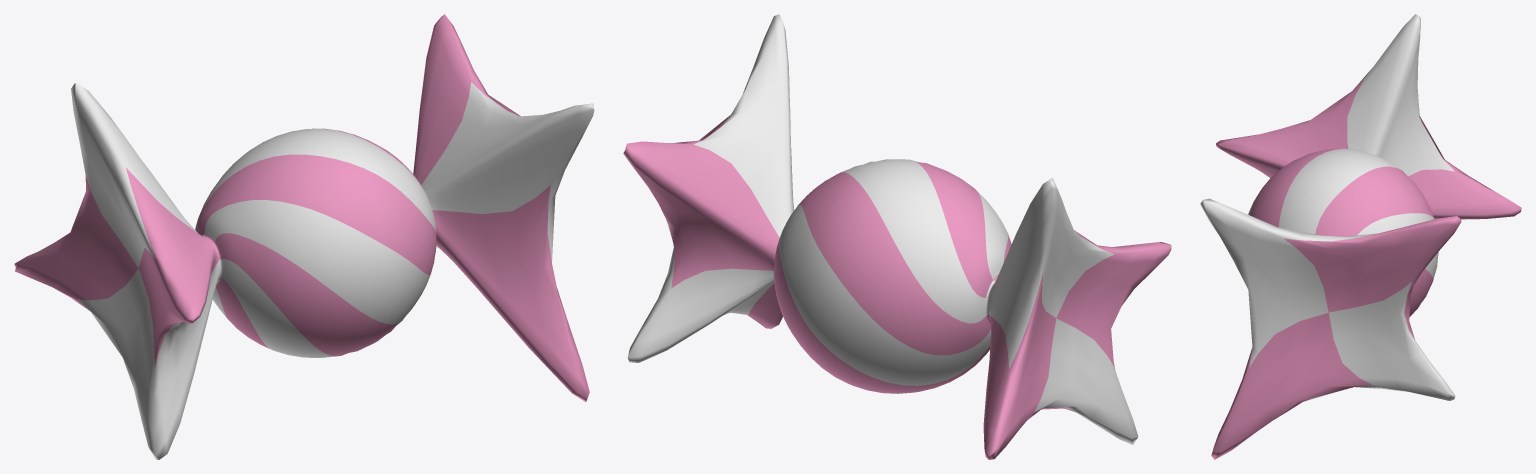
File: Trap_Decoy_Candy.fbx
The picture shows the model from 3 angles, left to right: view 1: azimuth 30°, elevation 25°; view 2: azimuth 150°, elevation 25°; view 3: azimuth 270°, elevation 25°; orthographic projection. The views are drawn at different scales.
Visible parts, largest first — view 1: Trap_Decoy_Candy; view 2: Trap_Decoy_Candy; view 3: Trap_Decoy_Candy.
Boxes of the visible parts, <box> form: Trap_Decoy_Candy: <box>14,14,594,459</box>; Trap_Decoy_Candy: <box>623,14,1171,459</box>; Trap_Decoy_Candy: <box>1200,14,1521,459</box>.
Bounding box in the file's own units: 1.04 × 0.8249 × 0.8526.
